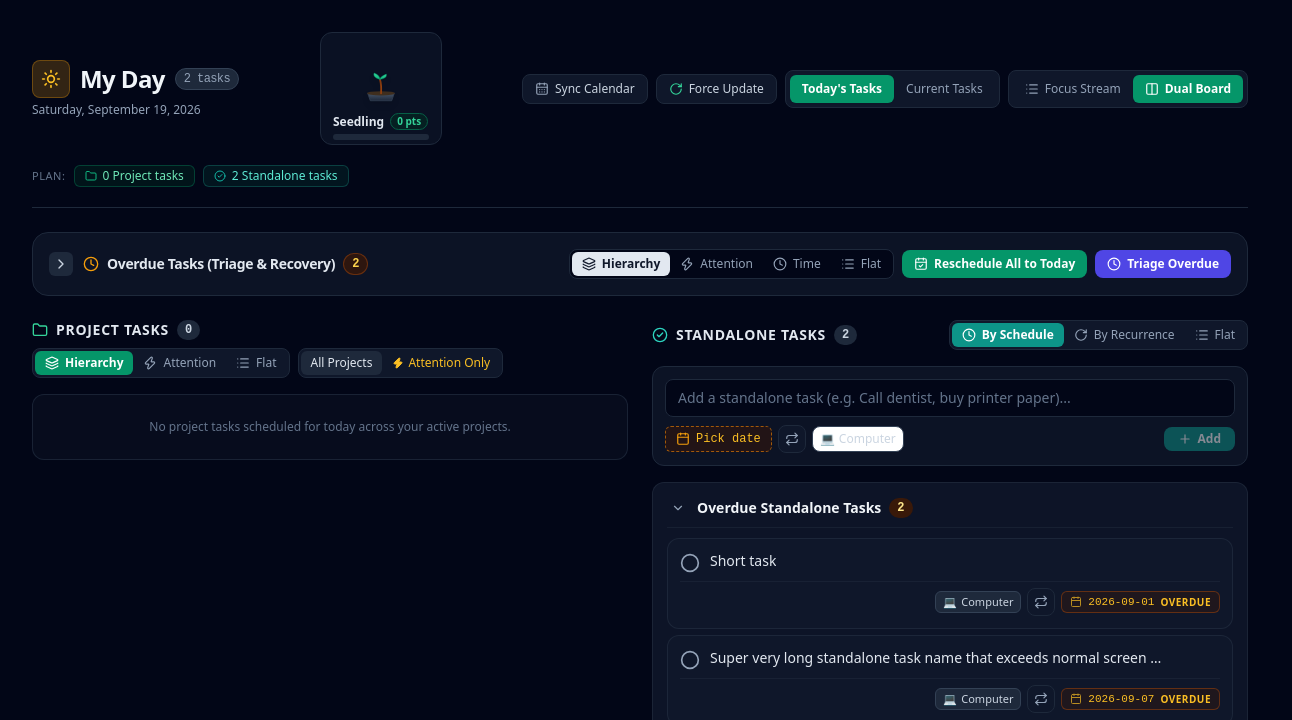
Test case: Standalone Tasks Name Editing and Tooltip in MyDayView › cancels edit without saving on Escape key press
Click the text titled "Super very long standalone task name that exceeds normal screen container space and must be truncated": (936, 658) [710,648,1162,668]
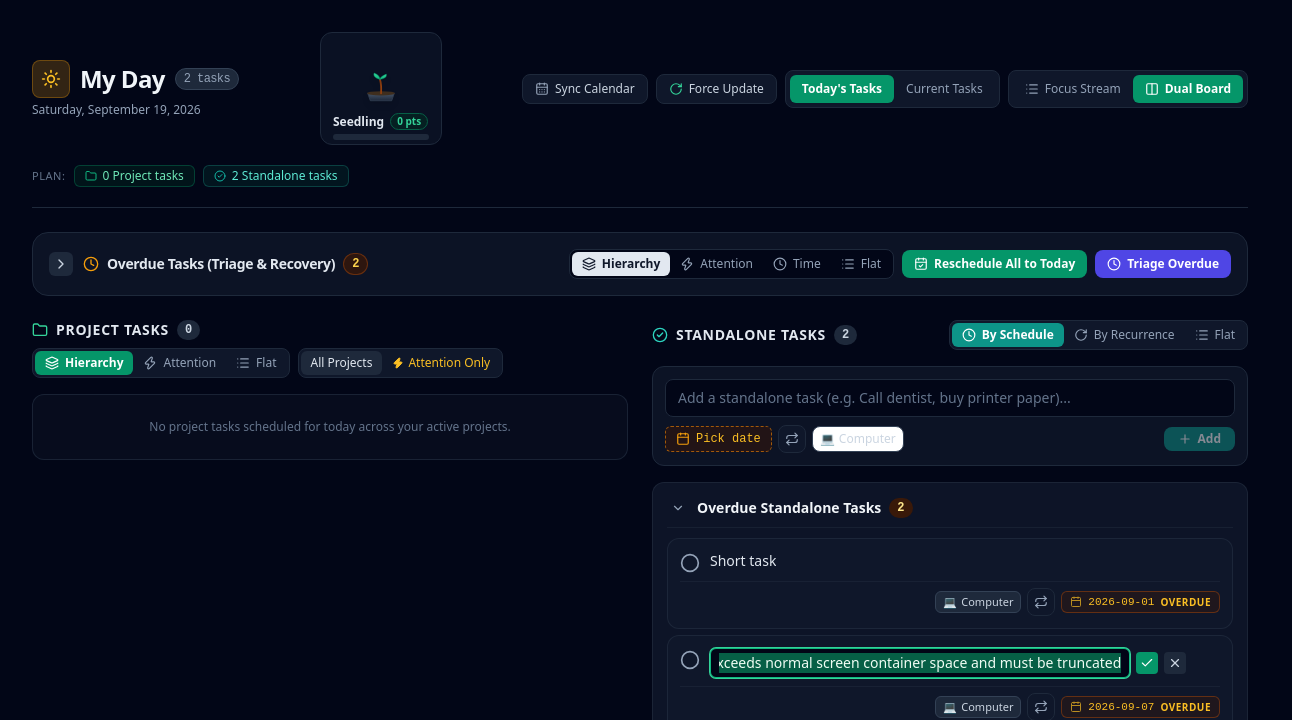
Replace the text in the field showing "Super very long standalone task name that exceeds normal screen container space and must be truncated" with "Abandoned Edit": (920, 663) [710,648,1130,678]
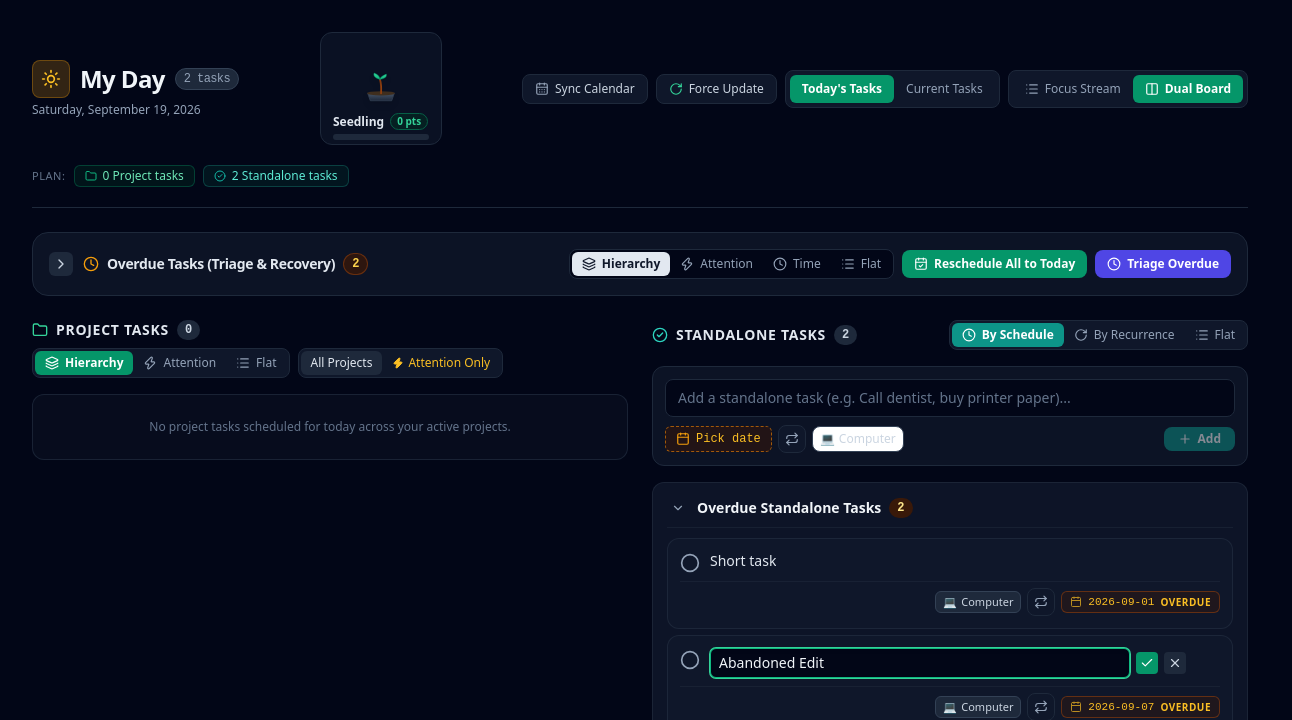
Press Escape in the field showing "Super very long standalone task name that exceeds normal screen container space and must be truncated", box [710,648,1130,678]
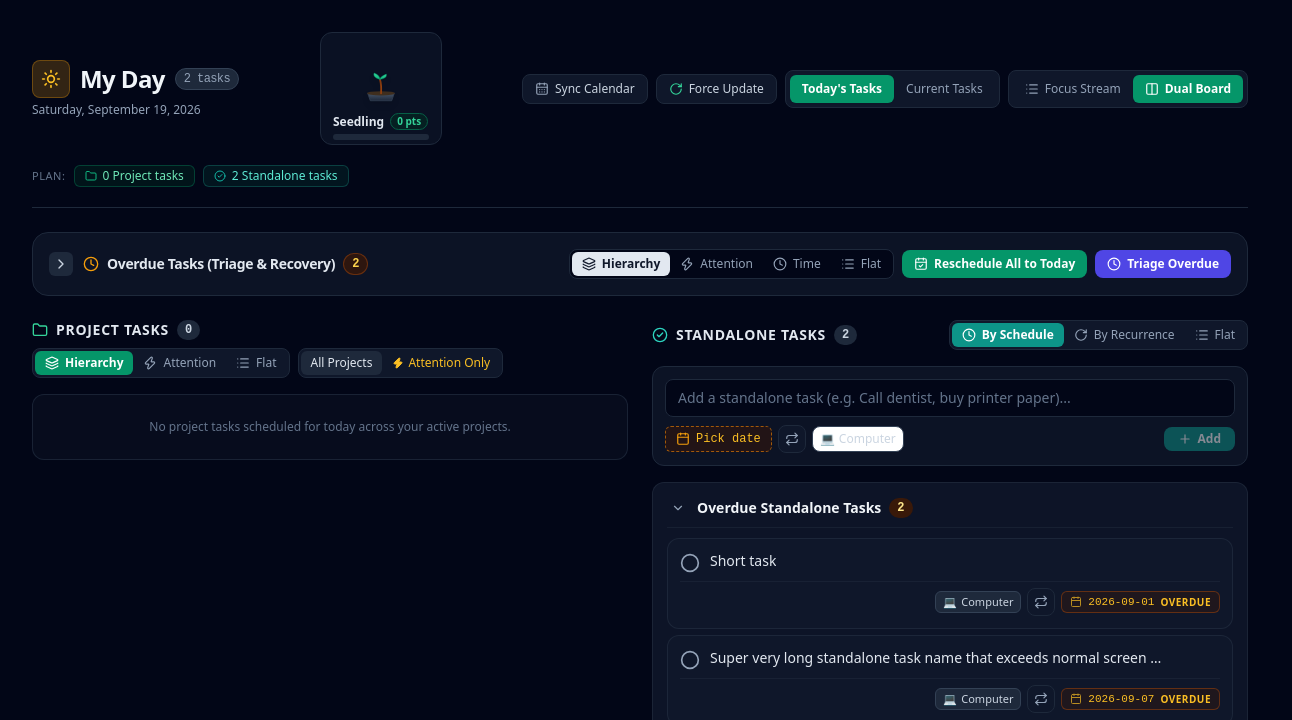
Expected: the text titled "Super very long standalone task name that exceeds normal screen container space and must be truncated" is shown, [710,648,1162,668]
